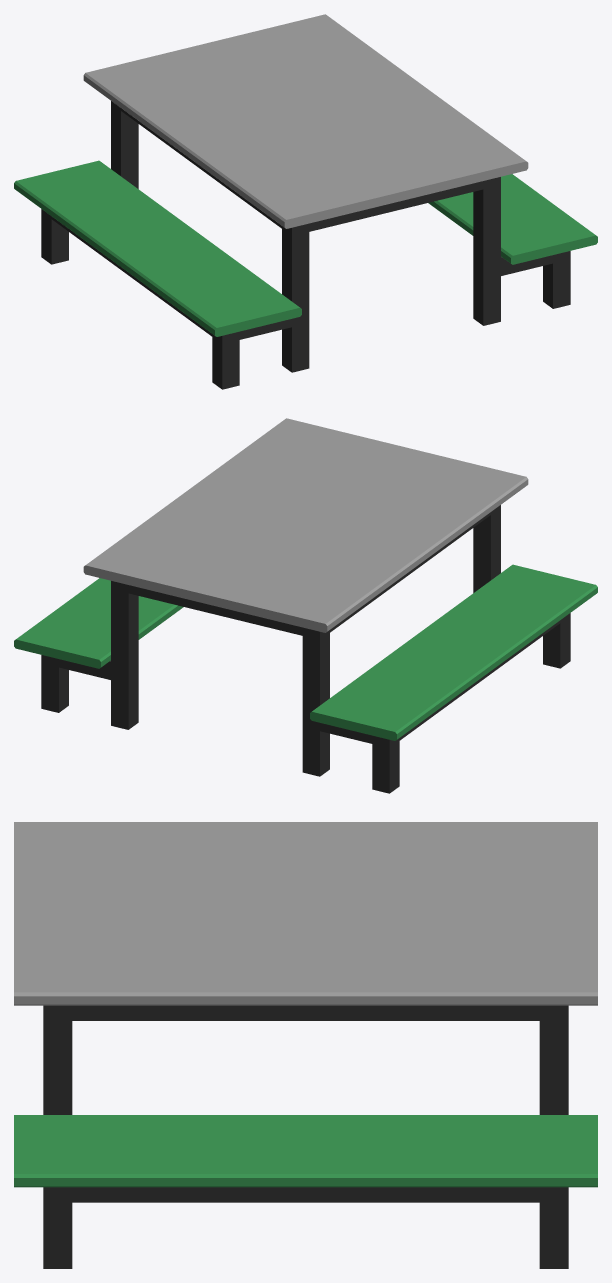
The model's file is CafeteriaTable.fbx.
3 views of the same model, one above another, from view 1: azimuth 30°, elevation 25°; view 2: azimuth 150°, elevation 25°; view 3: azimuth 270°, elevation 25° (orthographic). The views are drawn at different scales.
Visible parts, largest first — view 1: CanteenTable; view 2: CanteenTable; view 3: CanteenTable.
Part boxes in pixels (x1=…): CanteenTable: x1=14, y1=14, x2=597, y2=389; CanteenTable: x1=14, y1=418, x2=597, y2=793; CanteenTable: x1=14, y1=822, x2=597, y2=1268.
Size of the model in its own units: 220 by 90 by 200.
